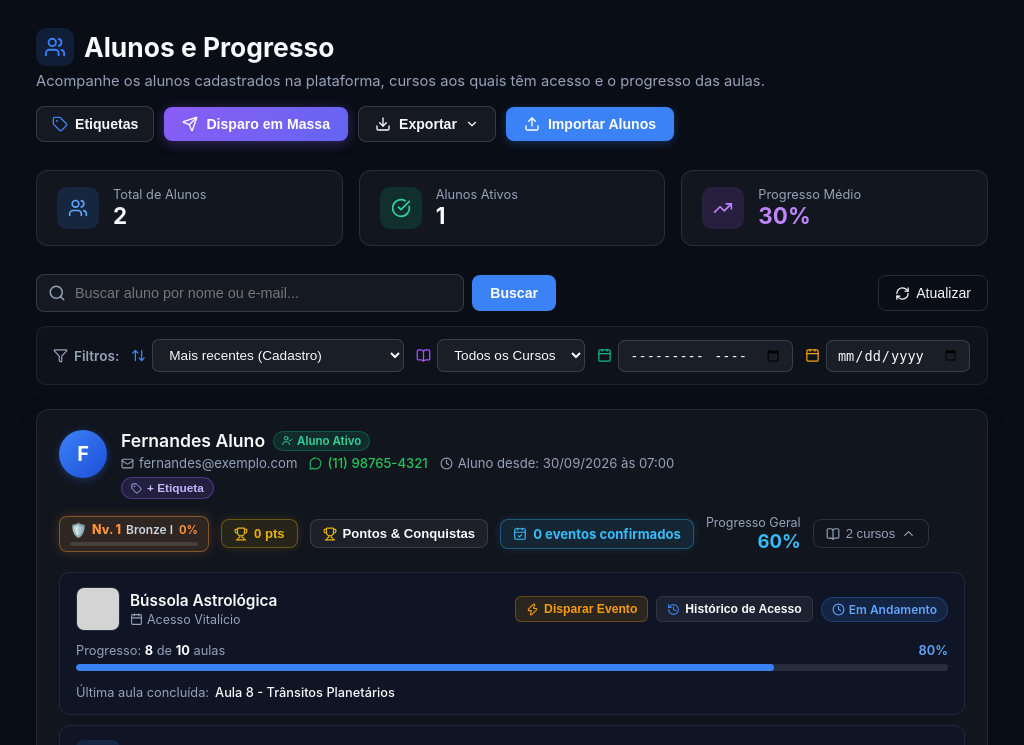
Test: StudentManagement Component › opens student lesson access history modal and closes it
Step 1. Click the button with test id "view-course-history-btn-101" → (734, 609), box [656,596,813,622]
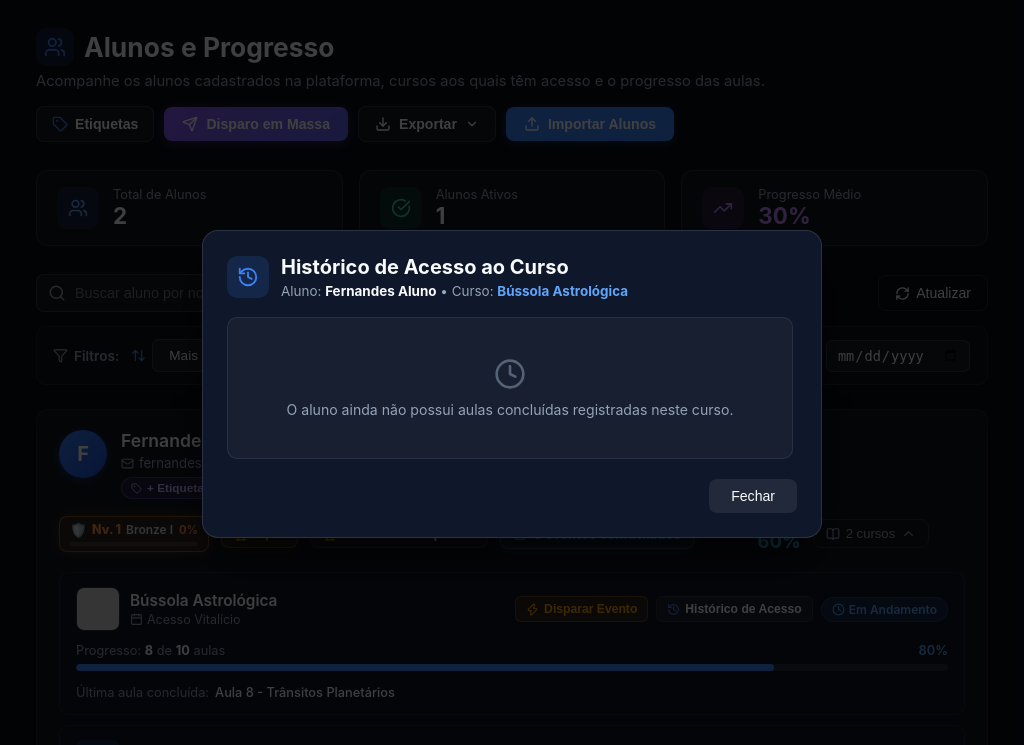
Now the heading "Histórico de Acesso ao Curso" is shown, box [281,255,569,279]
Now the dialog with test id "student-history-modal-content" is shown, box [202,230,822,538]
Step 2. Click the button with test id "close-history-modal-btn" → (753, 496), box [709,479,797,513]
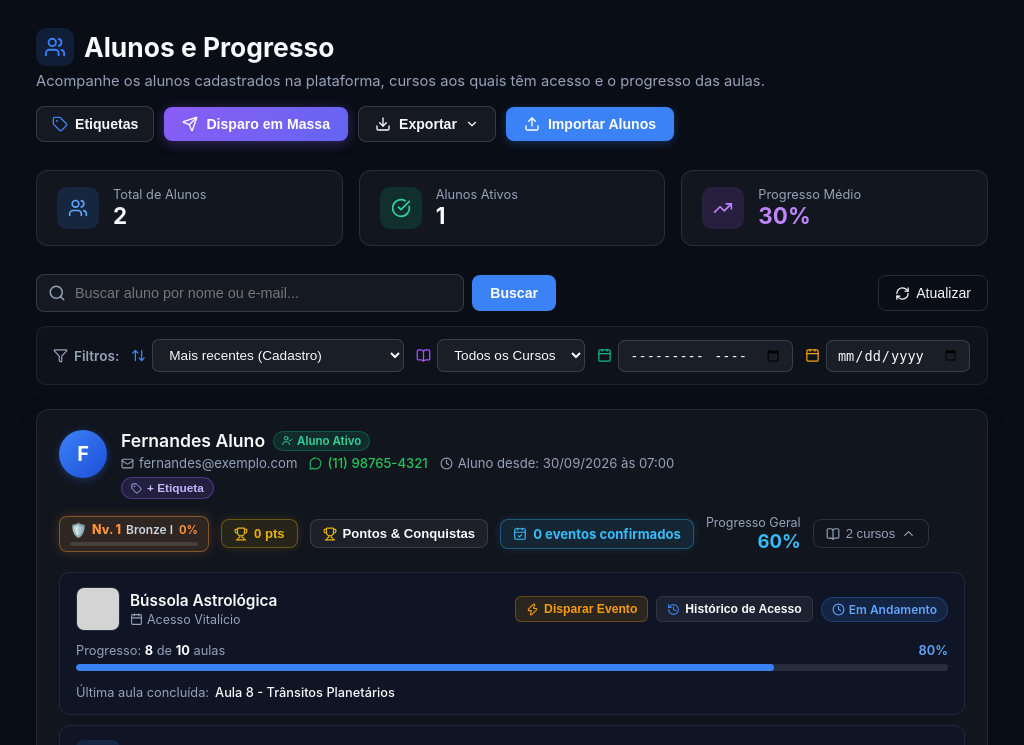
Now the dialog with test id "student-history-modal-content" is gone
